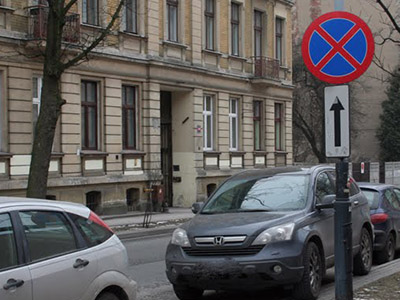no_stopping_sign: (301, 11, 374, 84)
